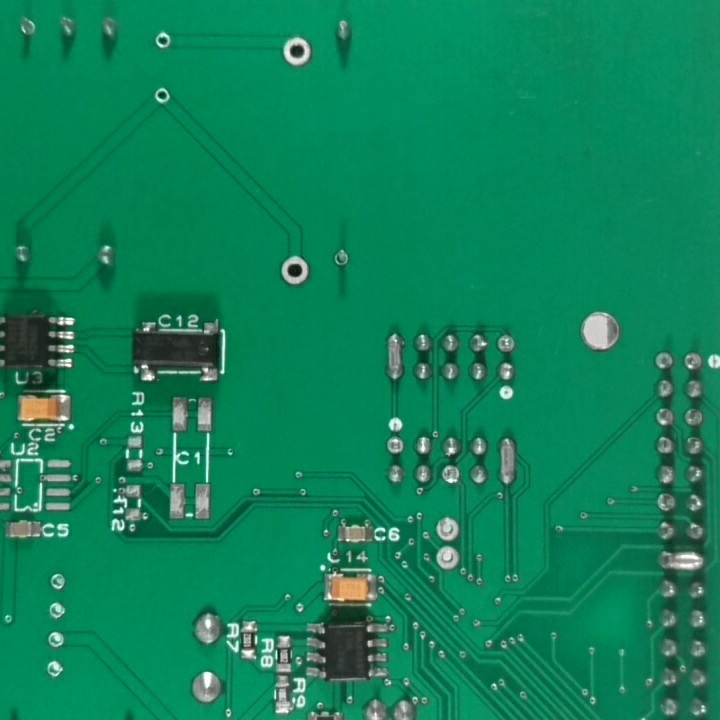F: (279, 34, 316, 69), (279, 253, 313, 289), (433, 546, 463, 575), (432, 516, 463, 543), (653, 489, 678, 517), (44, 628, 67, 655), (15, 16, 40, 40), (681, 349, 704, 373), (684, 408, 707, 432), (496, 332, 518, 356), (384, 434, 406, 458), (43, 660, 68, 681), (152, 30, 174, 52), (46, 570, 70, 590), (152, 86, 173, 108), (44, 600, 67, 620), (441, 463, 461, 485), (331, 249, 353, 268)
P: (380, 329, 408, 386), (653, 545, 710, 573), (493, 432, 520, 487)
